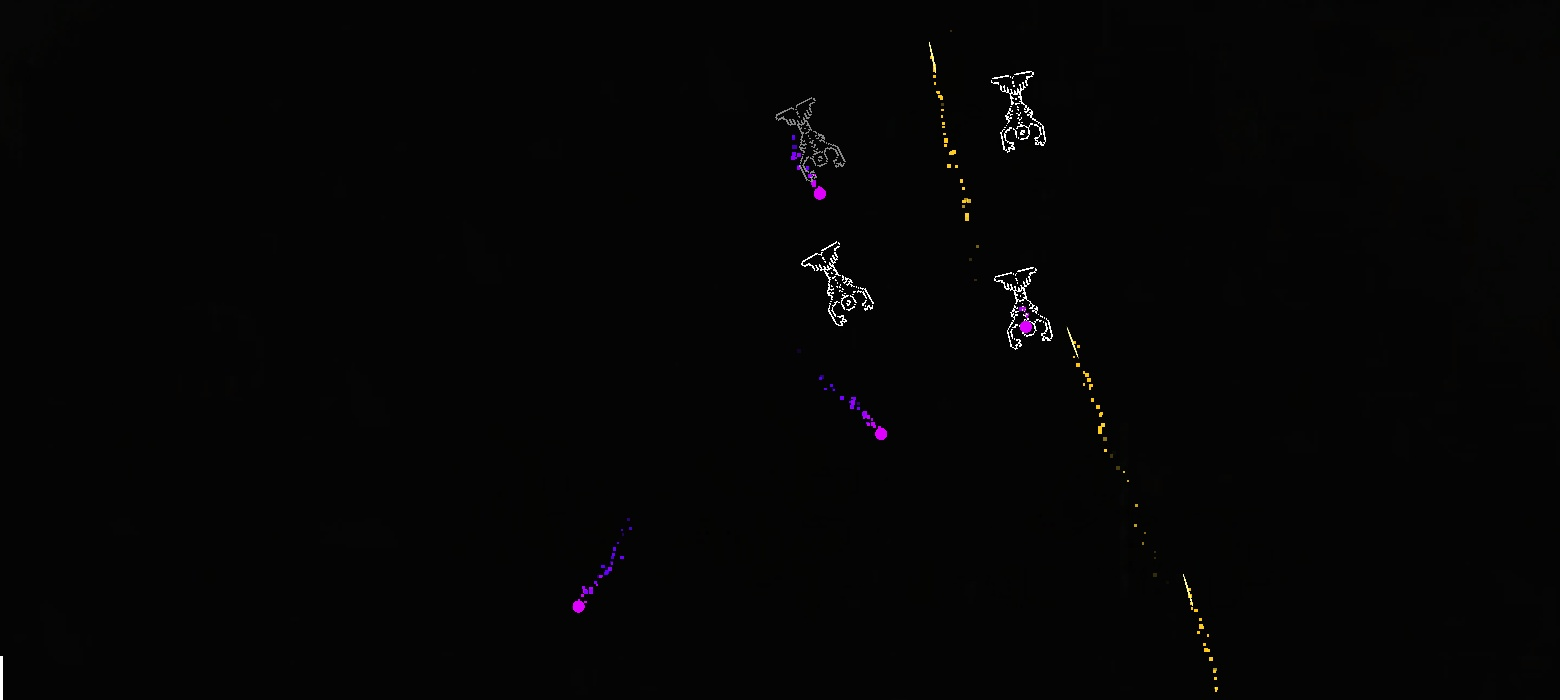enemy: (800, 240, 874, 326), (775, 97, 846, 181), (993, 267, 1054, 350), (990, 71, 1047, 153)
